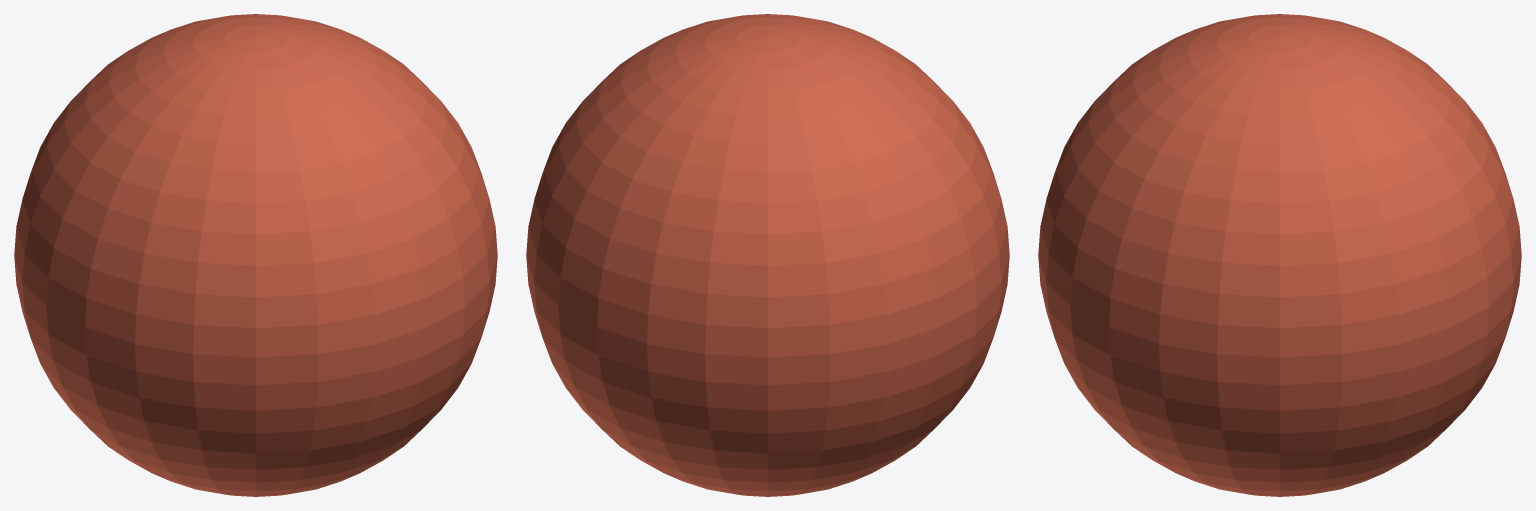
File: sphere_flat_medium.obj
3 renders of one model, left to right at view 1: azimuth 30°, elevation 25°; view 2: azimuth 150°, elevation 25°; view 3: azimuth 270°, elevation 25°, orthographic.
Parts seen in each view (by area): view 1: Sphere; view 2: Sphere; view 3: Sphere.
Part boxes in pixels (x1=…): Sphere: x1=14, y1=14, x2=497, y2=496; Sphere: x1=526, y1=14, x2=1009, y2=496; Sphere: x1=1038, y1=14, x2=1521, y2=496.
Size of the model in its own units: 2 by 2 by 2.
